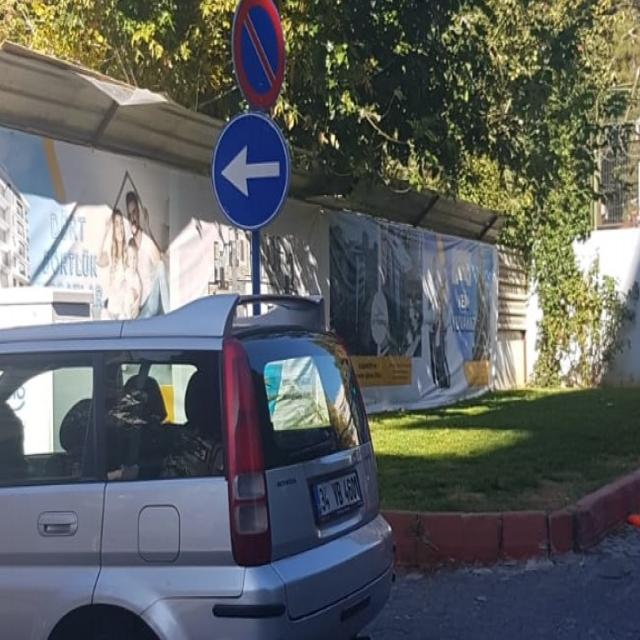Turn Left: (208, 118, 289, 234)
